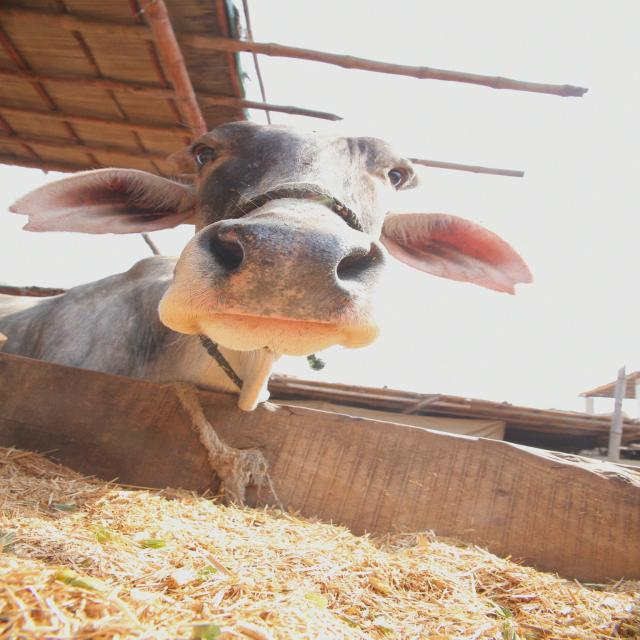muzzles: (196, 222, 376, 324)
